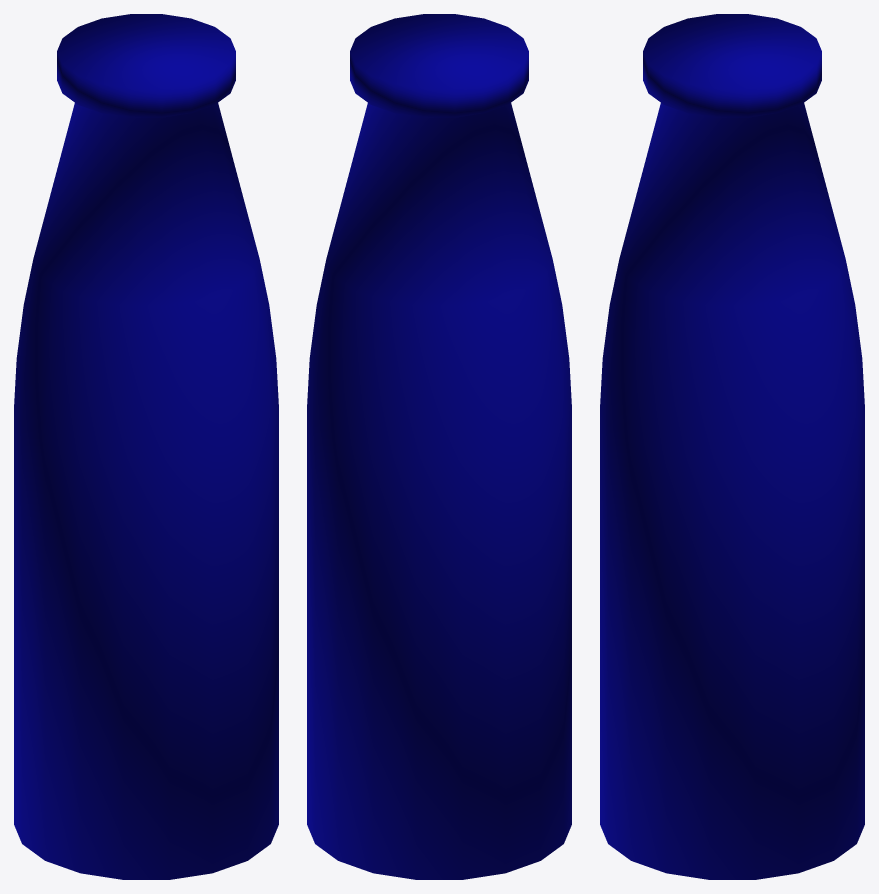
File: Botol3.fbx
3 views of the same model, side by side, from view 1: azimuth 30°, elevation 25°; view 2: azimuth 150°, elevation 25°; view 3: azimuth 270°, elevation 25° (orthographic).
Parts seen in each view (by area): view 1: botol3; view 2: botol3; view 3: botol3.
Boxes of the visible parts, x1,y1,x2,y2 form: botol3: [14, 14, 278, 879]; botol3: [307, 14, 571, 879]; botol3: [600, 14, 864, 879].
Size of the model in its own units: 36.12 by 118 by 36.68.
